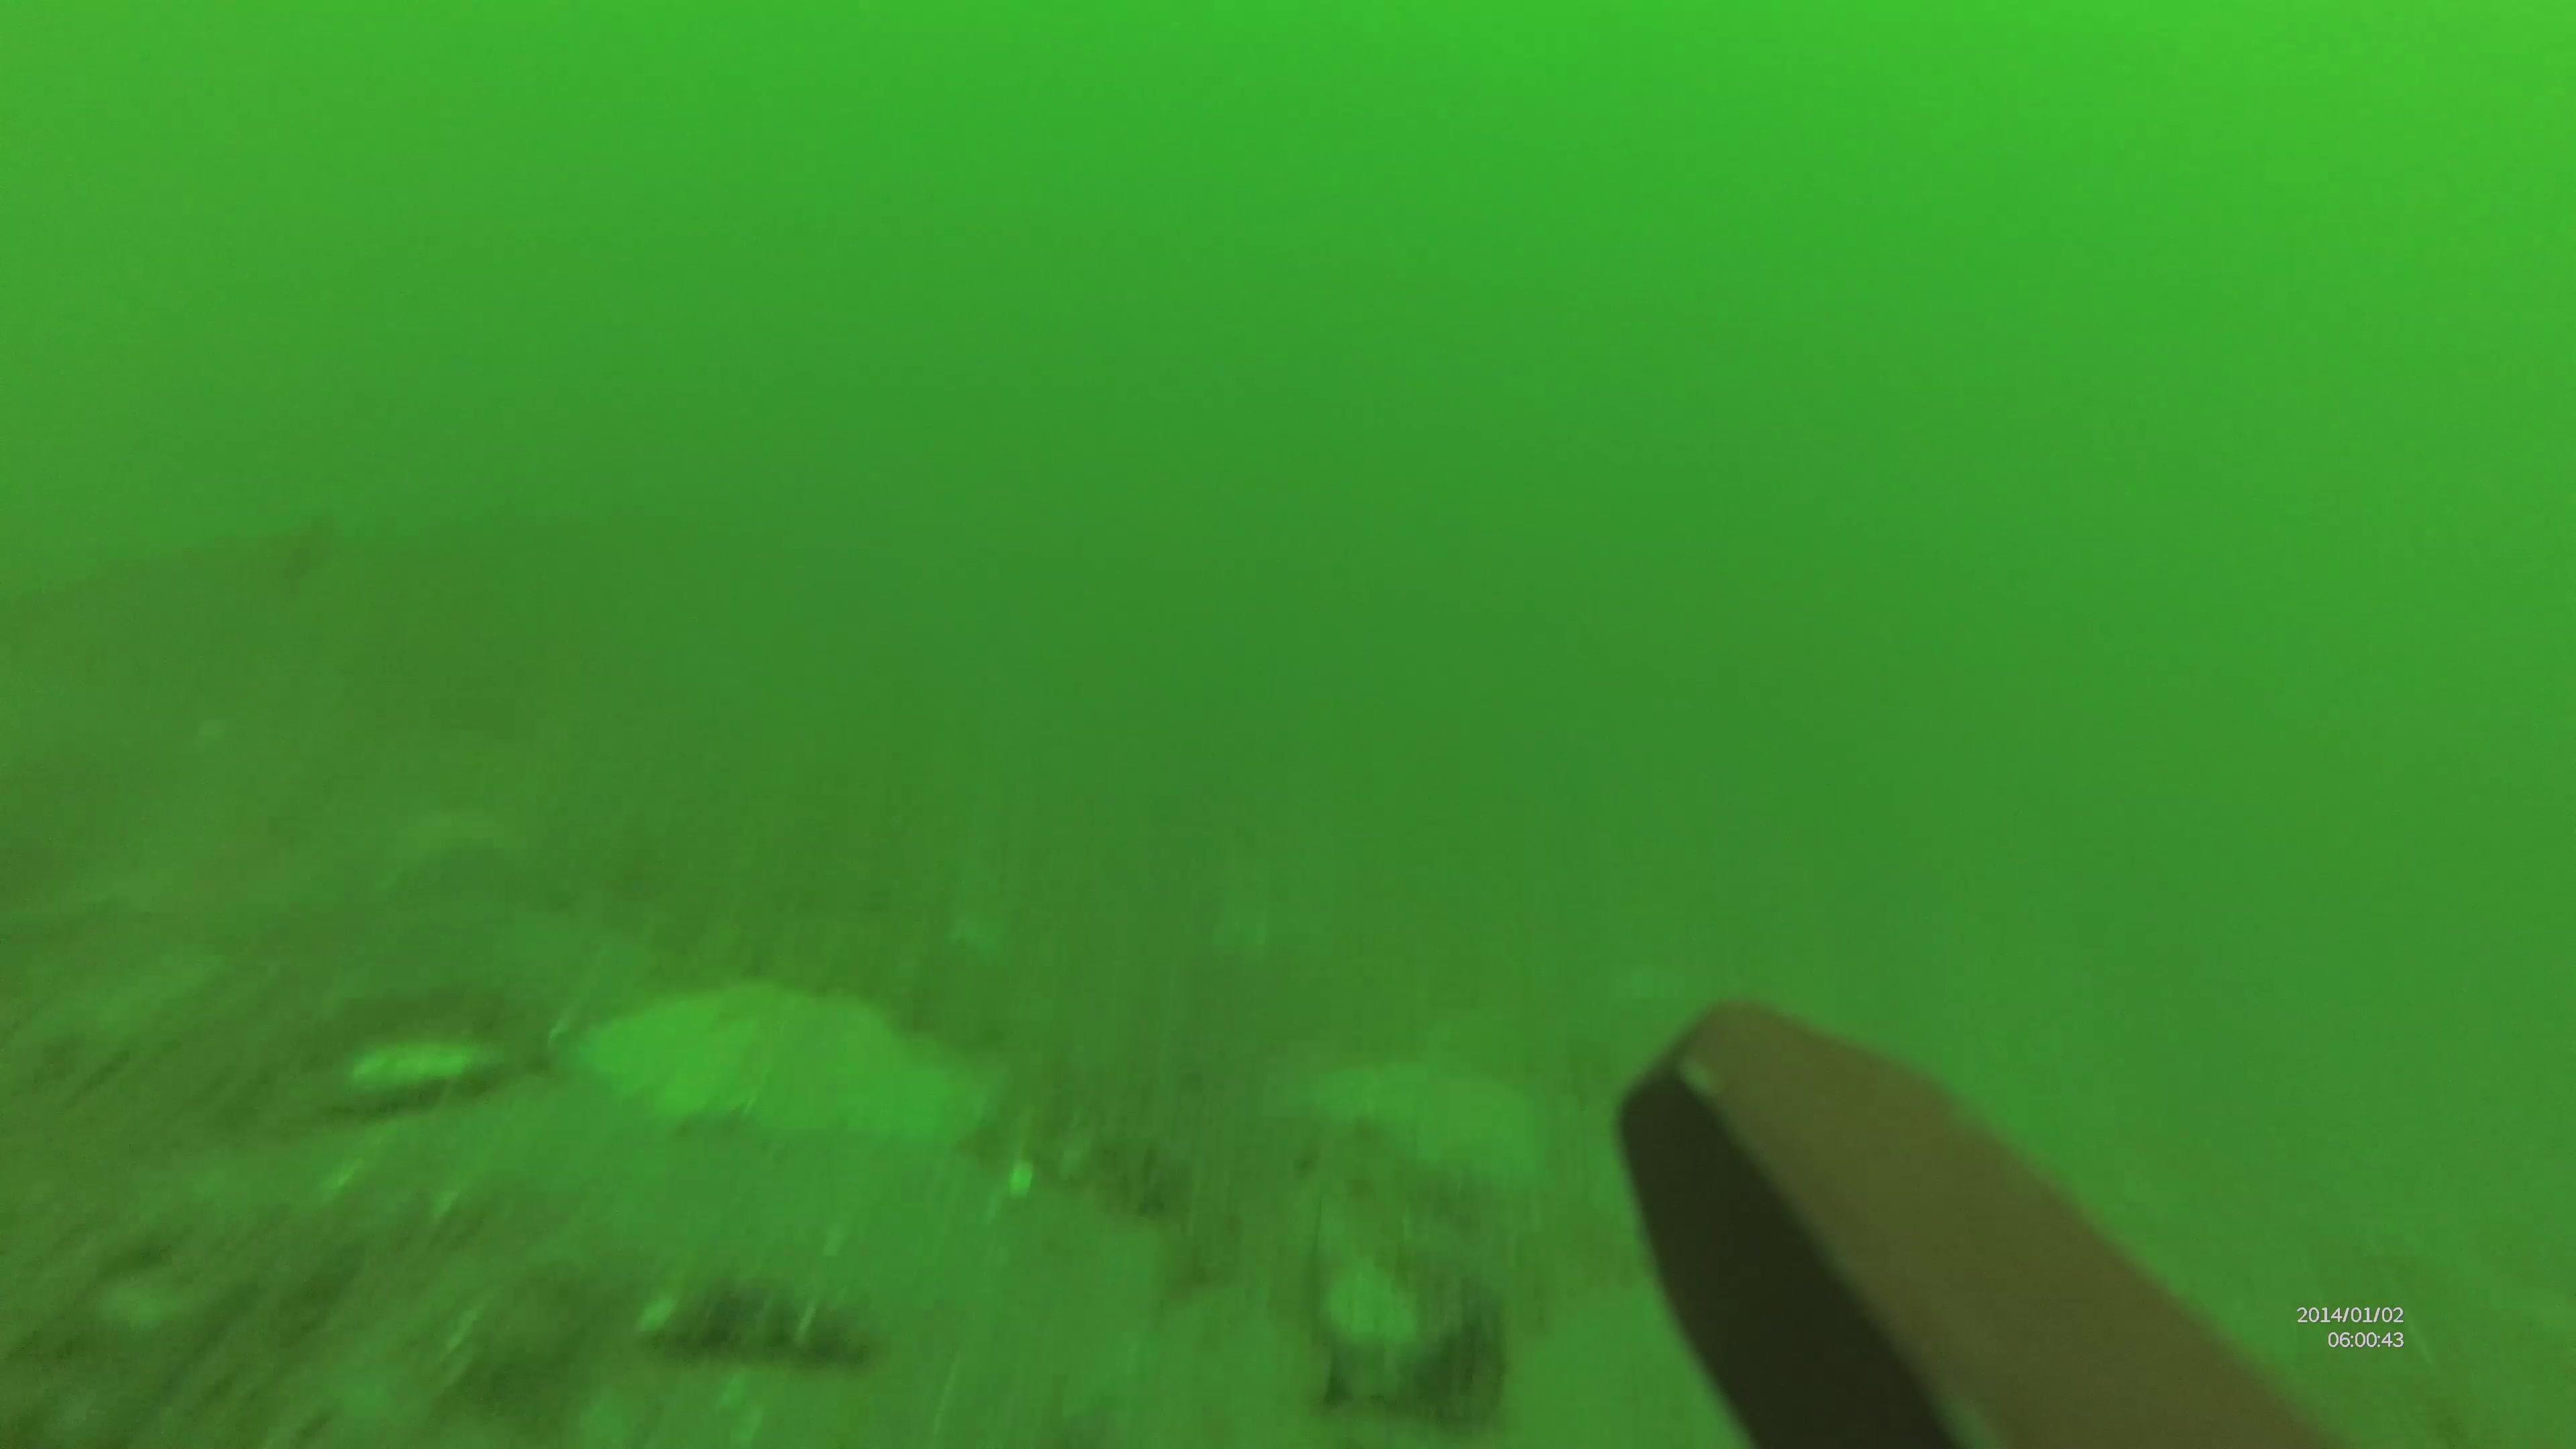holothurian: (632, 1272, 908, 1369)
starfish: (556, 957, 1014, 1157), (1315, 1047, 1596, 1200)
